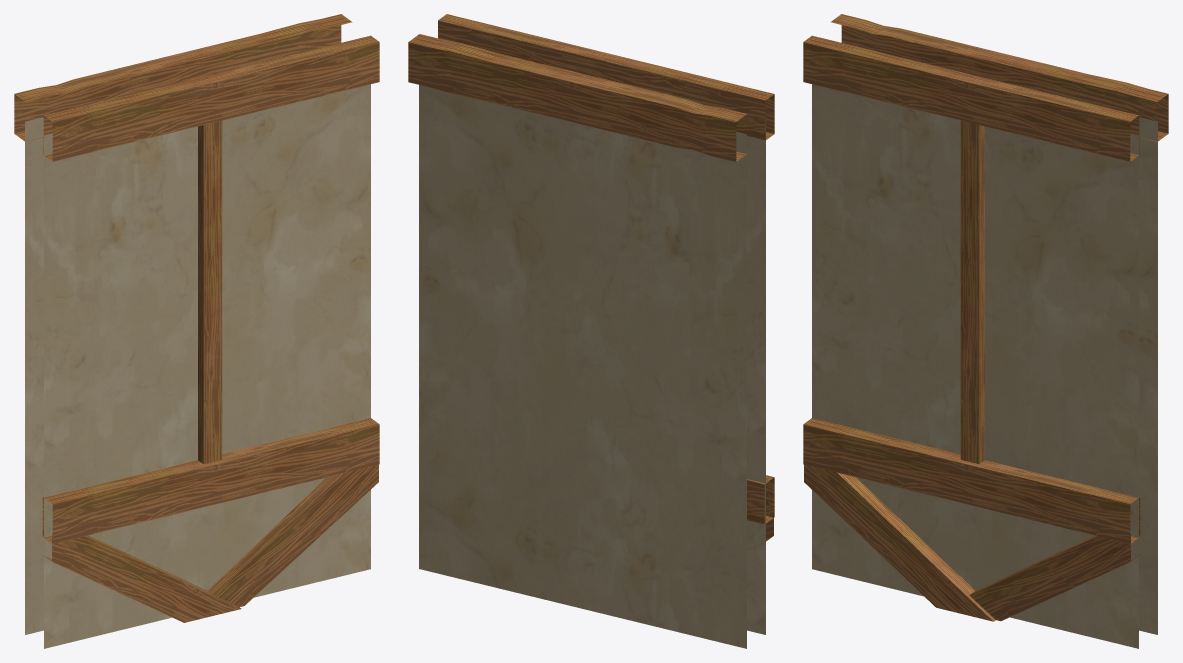
Rendered from Wall_Plaster_Straight.glb.
3 views of the same model, side by side, from view 1: azimuth 30°, elevation 25°; view 2: azimuth 150°, elevation 25°; view 3: azimuth 330°, elevation 25° (orthographic).
Visible parts, largest first — view 1: Wall_Plaster_Straight; view 2: Wall_Plaster_Straight; view 3: Wall_Plaster_Straight.
Boxes of the visible parts, x1,y1,x2,y2 form: Wall_Plaster_Straight: [14, 14, 379, 648]; Wall_Plaster_Straight: [408, 14, 774, 648]; Wall_Plaster_Straight: [803, 14, 1168, 648].
Size of the model in its own units: 2 by 3.12 by 0.4065.
2 materials, 2 textured.
